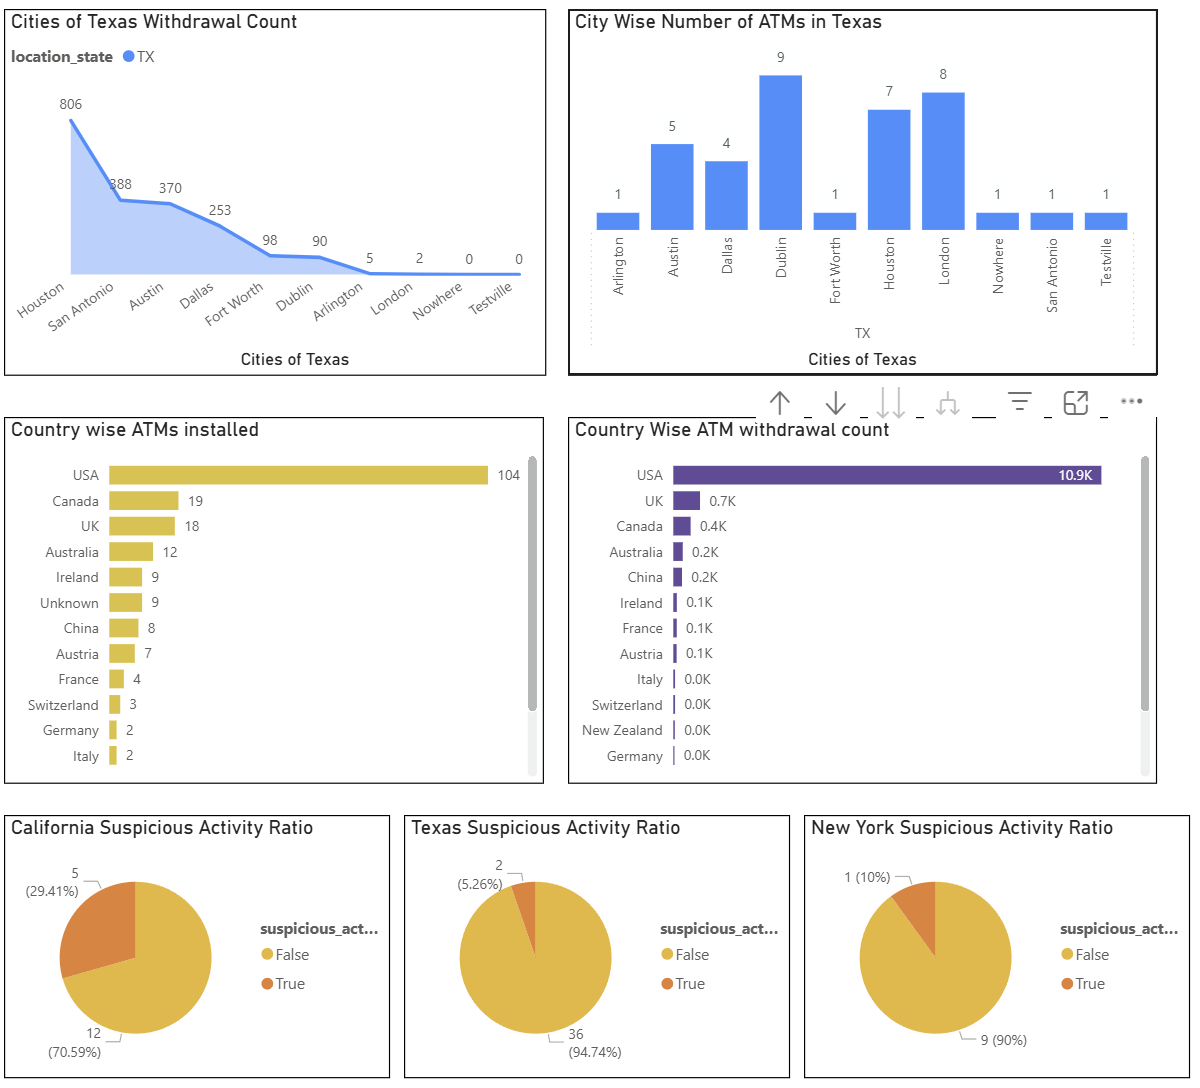

This screenshot's page, from the dashboard's own definition file:
{"tool":"powerbi","page":{"name":"Page 2","canvas":[1050,1000],"ordinal":1},"visuals":[{"type":"areaChart","title":"Cities of Texas Withdrawal Count","fields":{"Category":["cleaned_data.location_city"],"Y":["Sum(cleaned_data.total_withdrawal_count)"],"Series":["cleaned_data.location_state"]},"box":[18.3,28.3,463.3,313.3],"z":0},{"type":"barChart","title":"Country wise ATMs installed","fields":{"Category":["cleaned_data.location_country"],"Y":["CountNonNull(cleaned_data.total_withdrawal_count)"]},"box":[18.3,378.3,461.7,313.3],"z":1000},{"type":"barChart","title":"Country Wise ATM withdrawal count","fields":{"Category":["cleaned_data.location_country"],"Y":["Sum(cleaned_data.total_withdrawal_count)"]},"box":[501.7,378.3,503.3,313.3],"z":2000},{"type":"lineClusteredColumnComboChart","title":"City Wise Number of ATMs in Texas","fields":{"Y":["CountNonNull(cleaned_data.total_withdrawal_count)"],"Category":["cleaned_data.location_state","cleaned_data.location_city"]},"box":[501.7,28.3,503.3,313.3],"z":3000},{"type":"pieChart","title":"California Suspicious Activity Ratio","fields":{"Category":["cleaned_data.suspicious_activity_flag"],"Y":["CountNonNull(cleaned_data.suspicious_activity_flag)"]},"box":[18.3,718.3,330,225],"z":4000},{"type":"pieChart","title":"Texas Suspicious Activity Ratio","fields":{"Category":["cleaned_data.suspicious_activity_flag"],"Y":["CountNonNull(cleaned_data.suspicious_activity_flag)"]},"box":[360,718.3,330,225],"z":5000},{"type":"pieChart","title":"New York Suspicious Activity Ratio","fields":{"Category":["cleaned_data.suspicious_activity_flag"],"Y":["CountNonNull(cleaned_data.suspicious_activity_flag)"]},"box":[703.3,718.3,330,225],"z":6000}]}

Visuals, with their boxes on the page's 1050x1000 design canvas (x1, y1, x2, y2). These are canvas units, not pixel positions in the 1200x1088 screenshot, which may show the page scaled, cropped or inside an application window:
"Cities of Texas Withdrawal Count" areaChart: 18:28:482:342
"Country wise ATMs installed" barChart: 18:378:480:692
"Country Wise ATM withdrawal count" barChart: 502:378:1005:692
"City Wise Number of ATMs in Texas" lineClusteredColumnComboChart: 502:28:1005:342
"California Suspicious Activity Ratio" pieChart: 18:718:348:943
"Texas Suspicious Activity Ratio" pieChart: 360:718:690:943
"New York Suspicious Activity Ratio" pieChart: 703:718:1033:943
